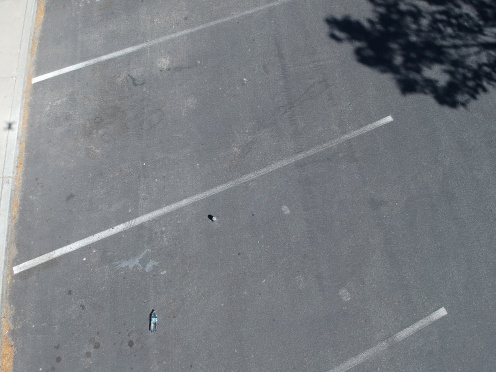bottle: (144, 308, 162, 338)
can: (208, 212, 221, 225)
